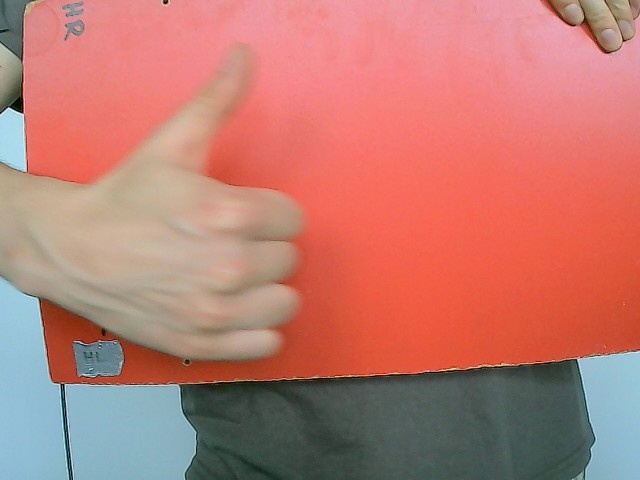up: (79, 40, 306, 364)
